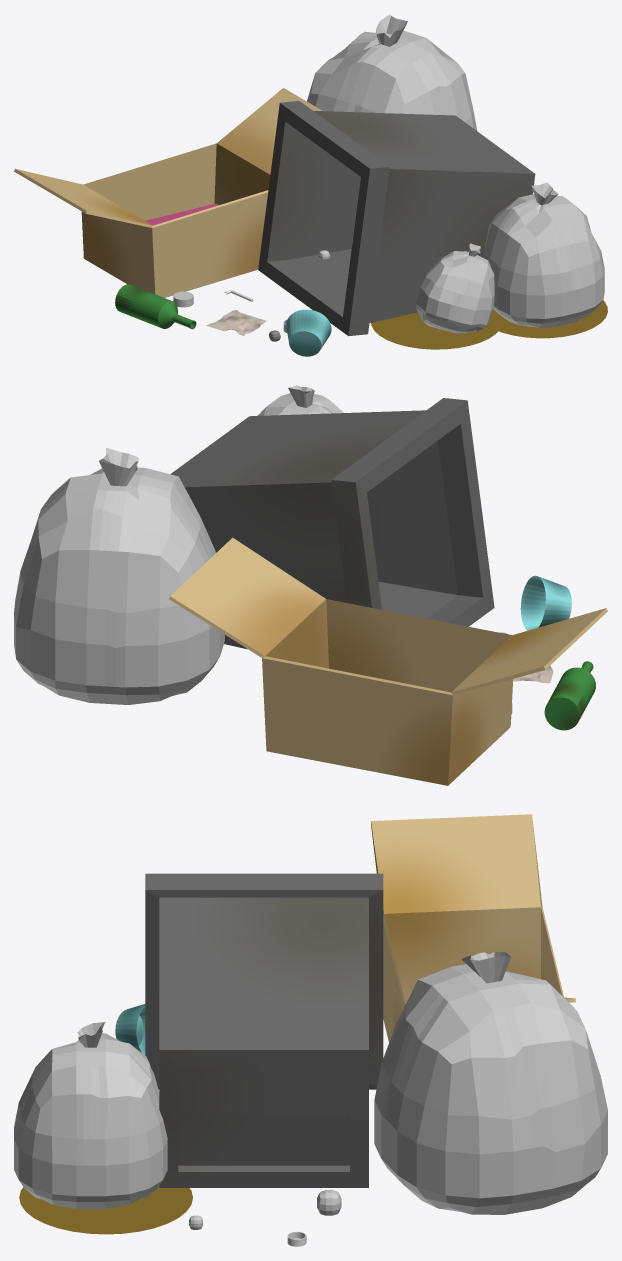
File: Trash.fbx
The picture shows the model from 3 angles, top to bottom: view 1: azimuth 30°, elevation 25°; view 2: azimuth 150°, elevation 25°; view 3: azimuth 270°, elevation 25°; orthographic projection. The views are drawn at different scales.
Visible parts, largest first — view 1: Trash, box, garbageBag1.001, garbageBag1, garbageBag2, Circle.004, Circle.001, Circle, Plane; view 2: Trash, box, garbageBag1, Circle.001, Circle, garbageBag1.001; view 3: Trash, garbageBag1, box, garbageBag1.001, Circle.004, Circle.
Boxes of the visible parts, x1,y1,x2,y2 form: Trash: (258, 101, 535, 336); box: (14, 88, 322, 297); garbageBag1.001: (483, 182, 604, 327); garbageBag1: (307, 14, 477, 130); garbageBag2: (416, 243, 494, 333); Circle.004: (371, 300, 607, 349); Circle.001: (115, 284, 196, 329); Circle: (286, 309, 331, 356); Plane: (206, 310, 266, 335); Trash: (170, 398, 494, 649); box: (169, 537, 607, 785); garbageBag1: (14, 447, 224, 704); Circle.001: (544, 661, 595, 730); Circle: (520, 575, 571, 630); garbageBag1.001: (257, 385, 343, 415); Trash: (145, 873, 383, 1187); garbageBag1: (374, 952, 607, 1214); box: (371, 814, 575, 1042); garbageBag1.001: (14, 1022, 167, 1209); Circle.004: (19, 1186, 192, 1234); Circle: (115, 1004, 145, 1054).
Size of the model in its own units: 575 by 226 by 499.
